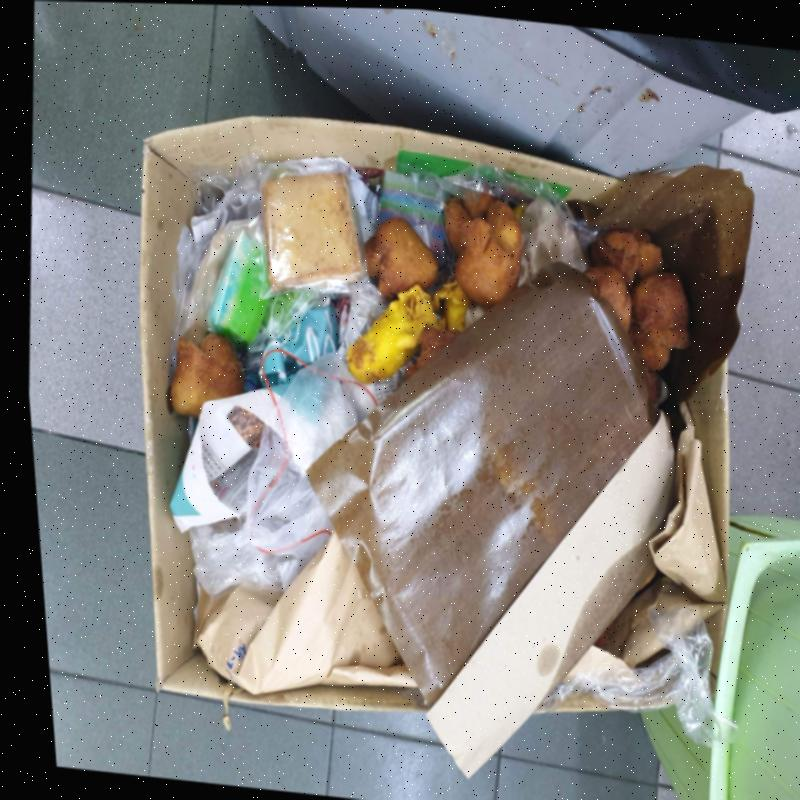fruit peels: (344, 280, 467, 384)
left-over food: (261, 173, 363, 292), (443, 193, 521, 307), (361, 217, 437, 305), (168, 332, 244, 417), (627, 272, 688, 372), (590, 228, 662, 293), (582, 265, 631, 335)
paper: (194, 532, 415, 694), (168, 388, 285, 533)
